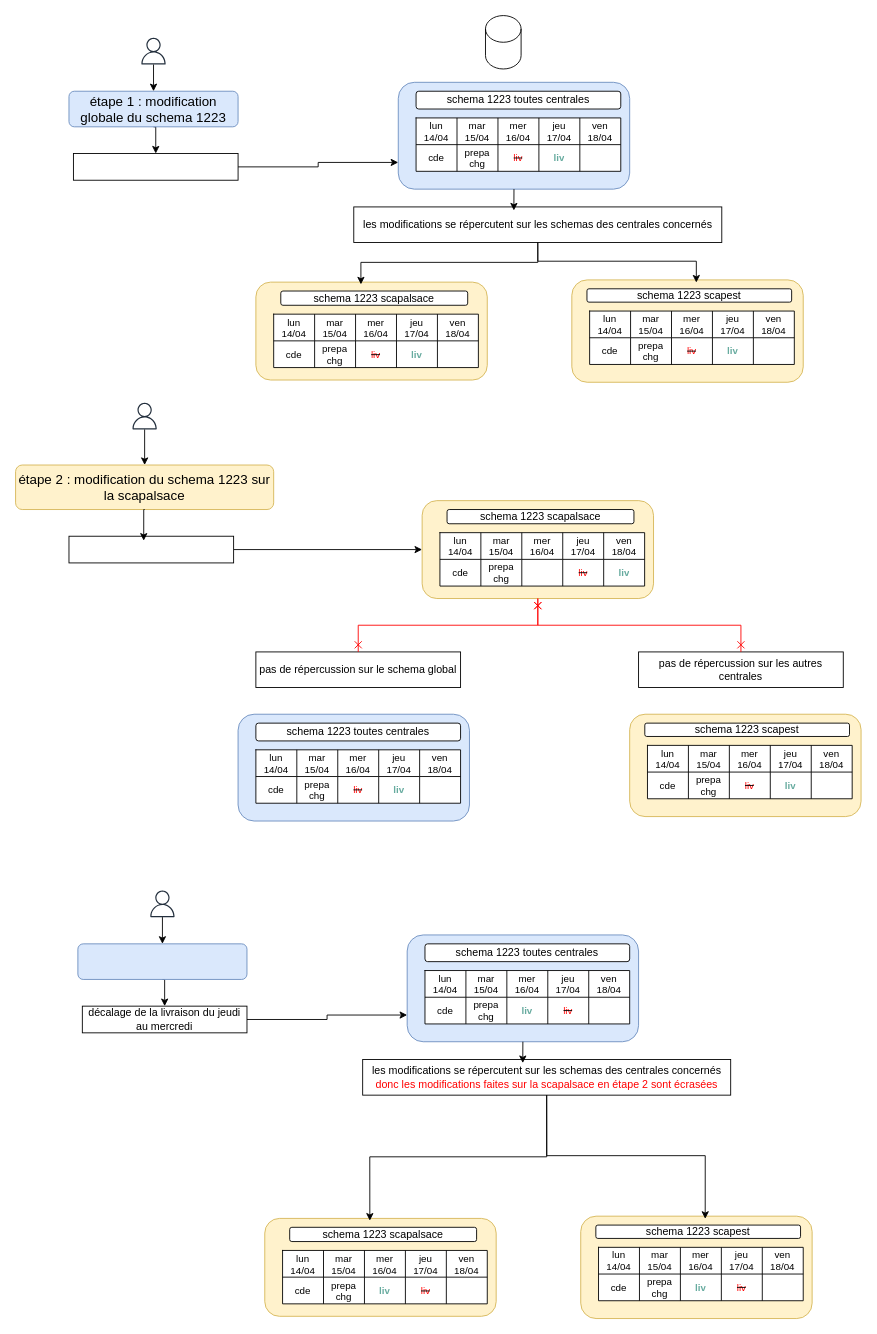
The diagram is 877 pixels wide and 1334 high, and some of its shapes have lost their labels. The centre of each missing label's shape, as x and y in pixels:
"décalage de la livraison du jeudi au vendredi" belongs at (x=151, y=549).
"décalage de la livraison du mercredi au jeudi" belongs at (x=155, y=166).
"étape 3 modification globale du schema 1223" belongs at (x=162, y=961).
